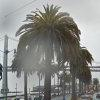Palm tree: (21, 3, 92, 100)
